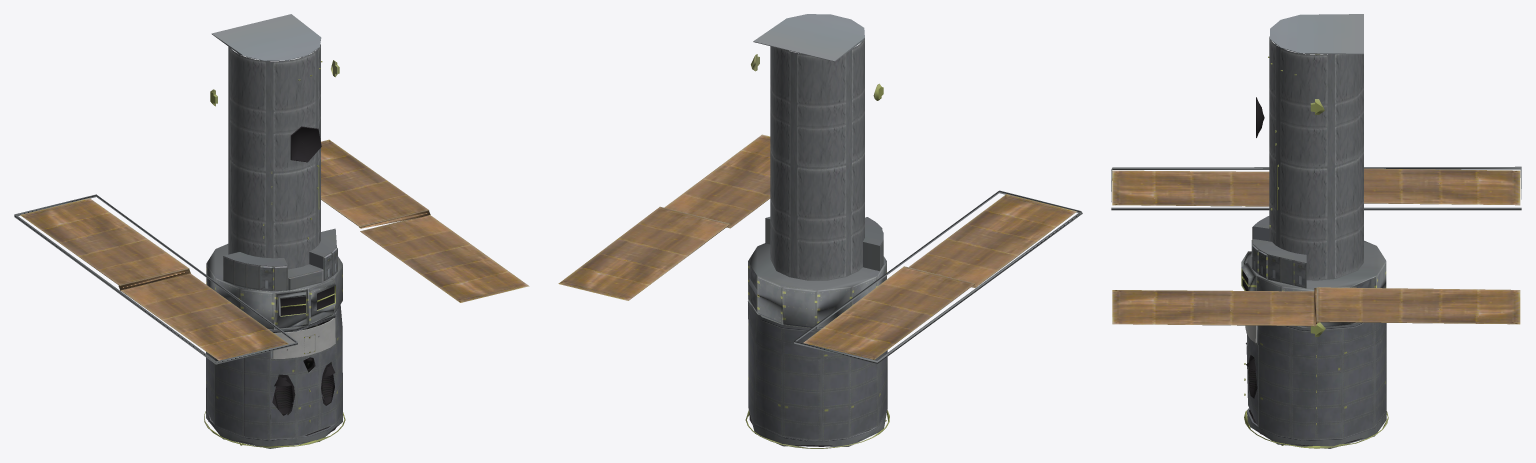
Rendered from Hubble Space Telescope (A)-optimized.glb.
The picture shows the model from 3 angles, left to right: view 1: azimuth 30°, elevation 25°; view 2: azimuth 150°, elevation 25°; view 3: azimuth 270°, elevation 25°; orthographic projection.
Visible parts, largest first — view 1: hst; view 2: hst; view 3: hst.
Boxes of the visible parts, x1,y1,x2,y2 form: hst: [14, 14, 529, 448]; hst: [558, 14, 1082, 448]; hst: [1111, 14, 1521, 448].
Size of the model in its own units: 451 by 525 by 500.
5 materials, 5 textured.
